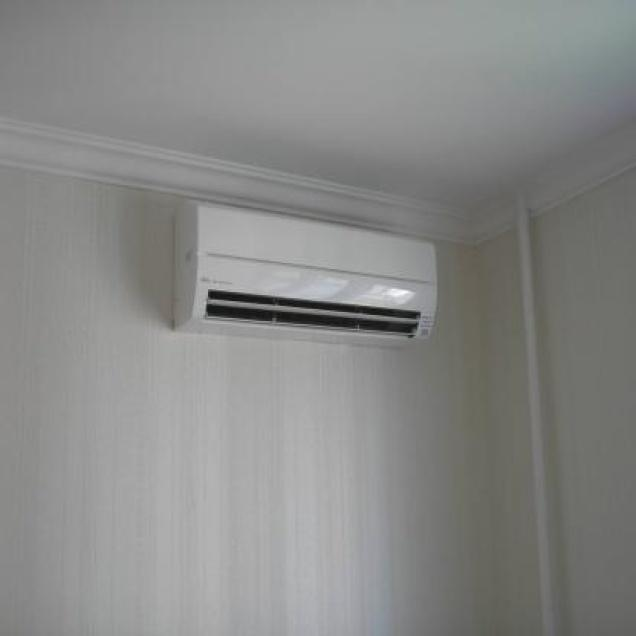AC: (172, 200, 437, 352)
